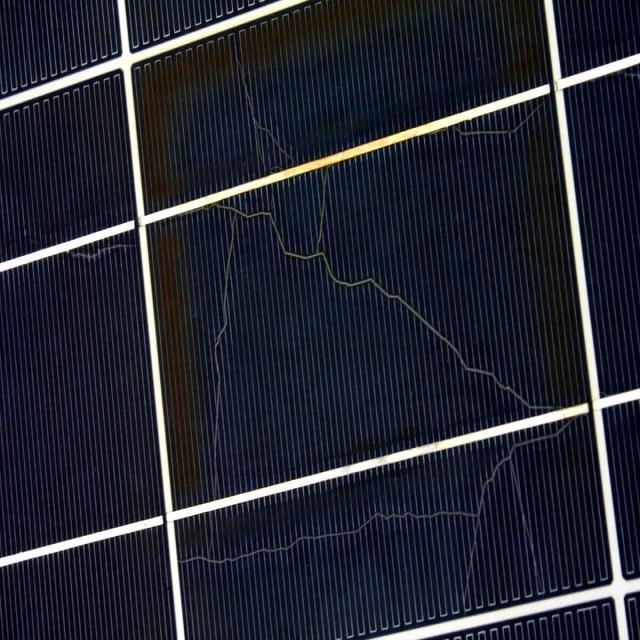shadow: (266, 196, 574, 416), (178, 491, 462, 603), (471, 441, 592, 596), (192, 223, 246, 491), (456, 86, 562, 148), (233, 35, 272, 172), (39, 234, 139, 276)
